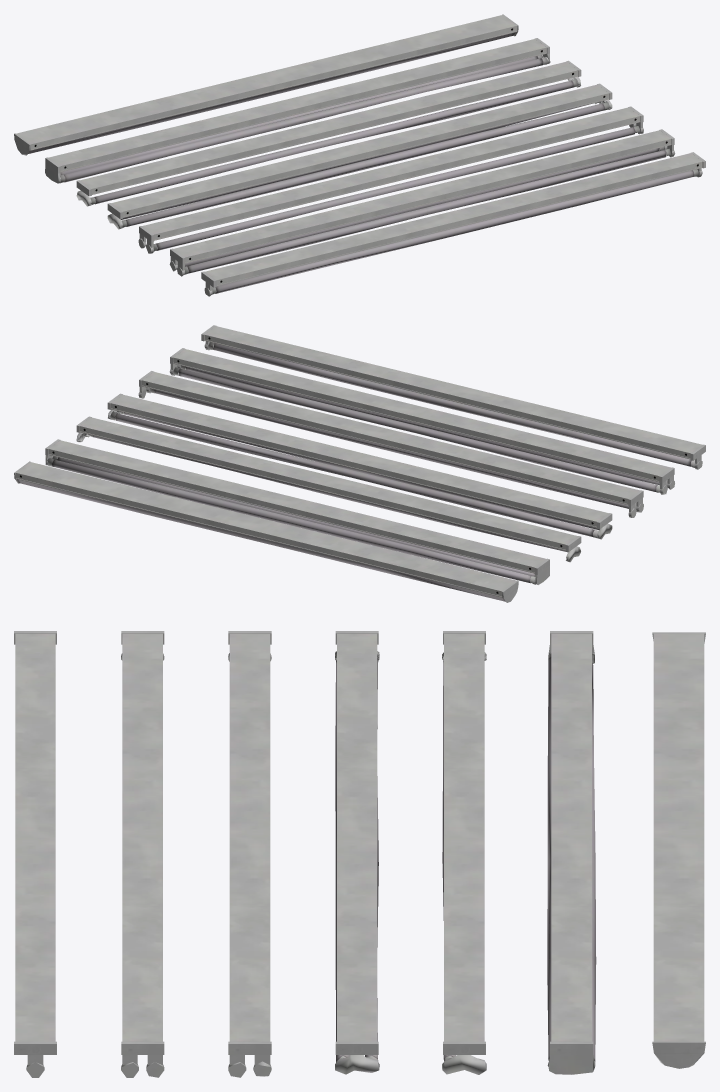
Rendered from mounted_fluorescent_lights.glb.
The picture shows the model from 3 angles, top to bottom: view 1: azimuth 30°, elevation 25°; view 2: azimuth 150°, elevation 25°; view 3: azimuth 270°, elevation 25°; orthographic projection. The views are drawn at different scales.
Parts seen in each view (by area): view 1: mounted_fluorescent_lights_a; view 2: mounted_fluorescent_lights_a; view 3: mounted_fluorescent_lights_a.
Boxes of the visible parts, bbox=[...] form: mounted_fluorescent_lights_a: bbox=[14, 14, 705, 296]; mounted_fluorescent_lights_a: bbox=[14, 325, 705, 602]; mounted_fluorescent_lights_a: bbox=[14, 631, 705, 1077].
Size of the model in its own units: 0.9122 by 0.0353 by 0.6453.
Materials: 2 (2 with a texture image).
